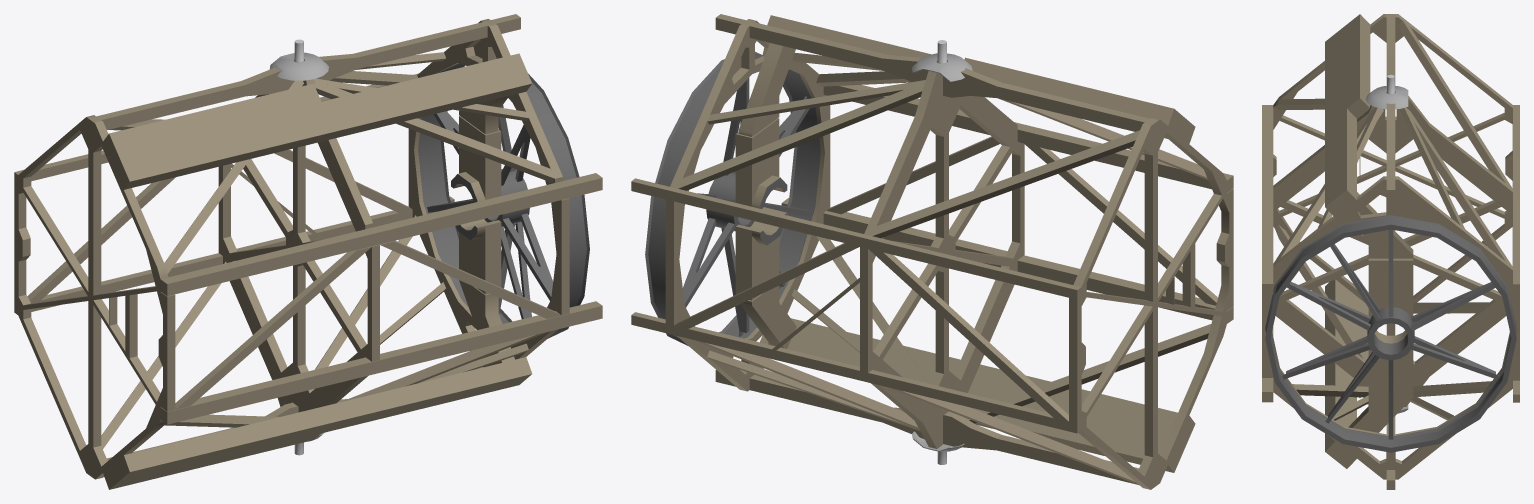
3 renders of one model, left to right at view 1: azimuth 30°, elevation 25°; view 2: azimuth 150°, elevation 25°; view 3: azimuth 270°, elevation 25°, orthographic. The views are drawn at different scales.
Visible parts, largest first — view 1: p3; view 2: p3; view 3: p3.
Part boxes in pixels (<box>): p3: <box>14,14,602,489</box>; p3: <box>631,14,1233,489</box>; p3: <box>1262,14,1519,489</box>.
Size of the model in its own units: 5.55 by 5.01 by 3.37.
Materials: 4 (1 with a texture image).
